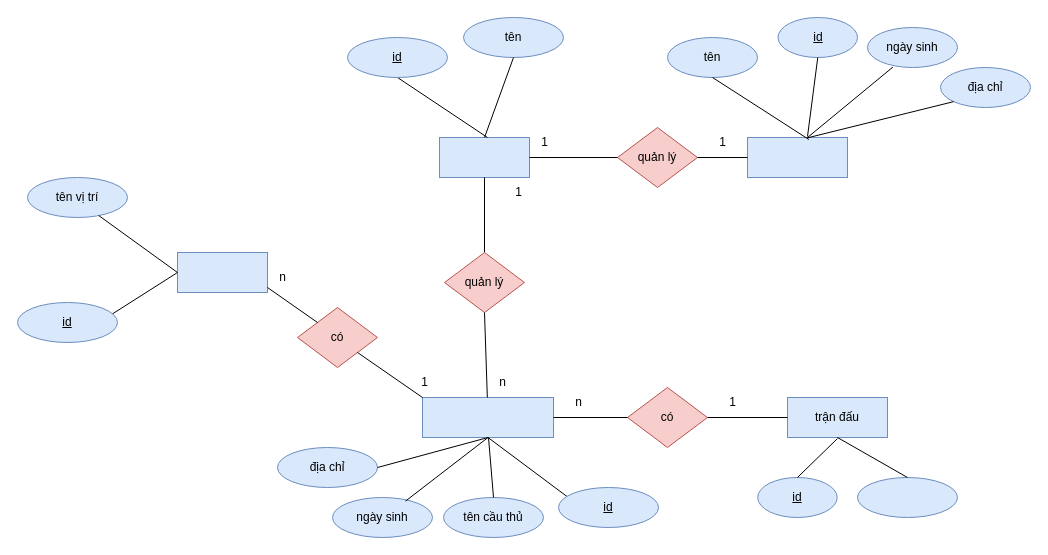
This 1048x555 diagram has some shape labels left out. Here are the shapes that lost their labels. From the top down, the centre of each, then its label:
point 484,157: đội
point 797,157: huấn luyện viên
point 222,272: vị trí
point 488,417: cầu thủ
point 907,497: ngày giờ đấu
